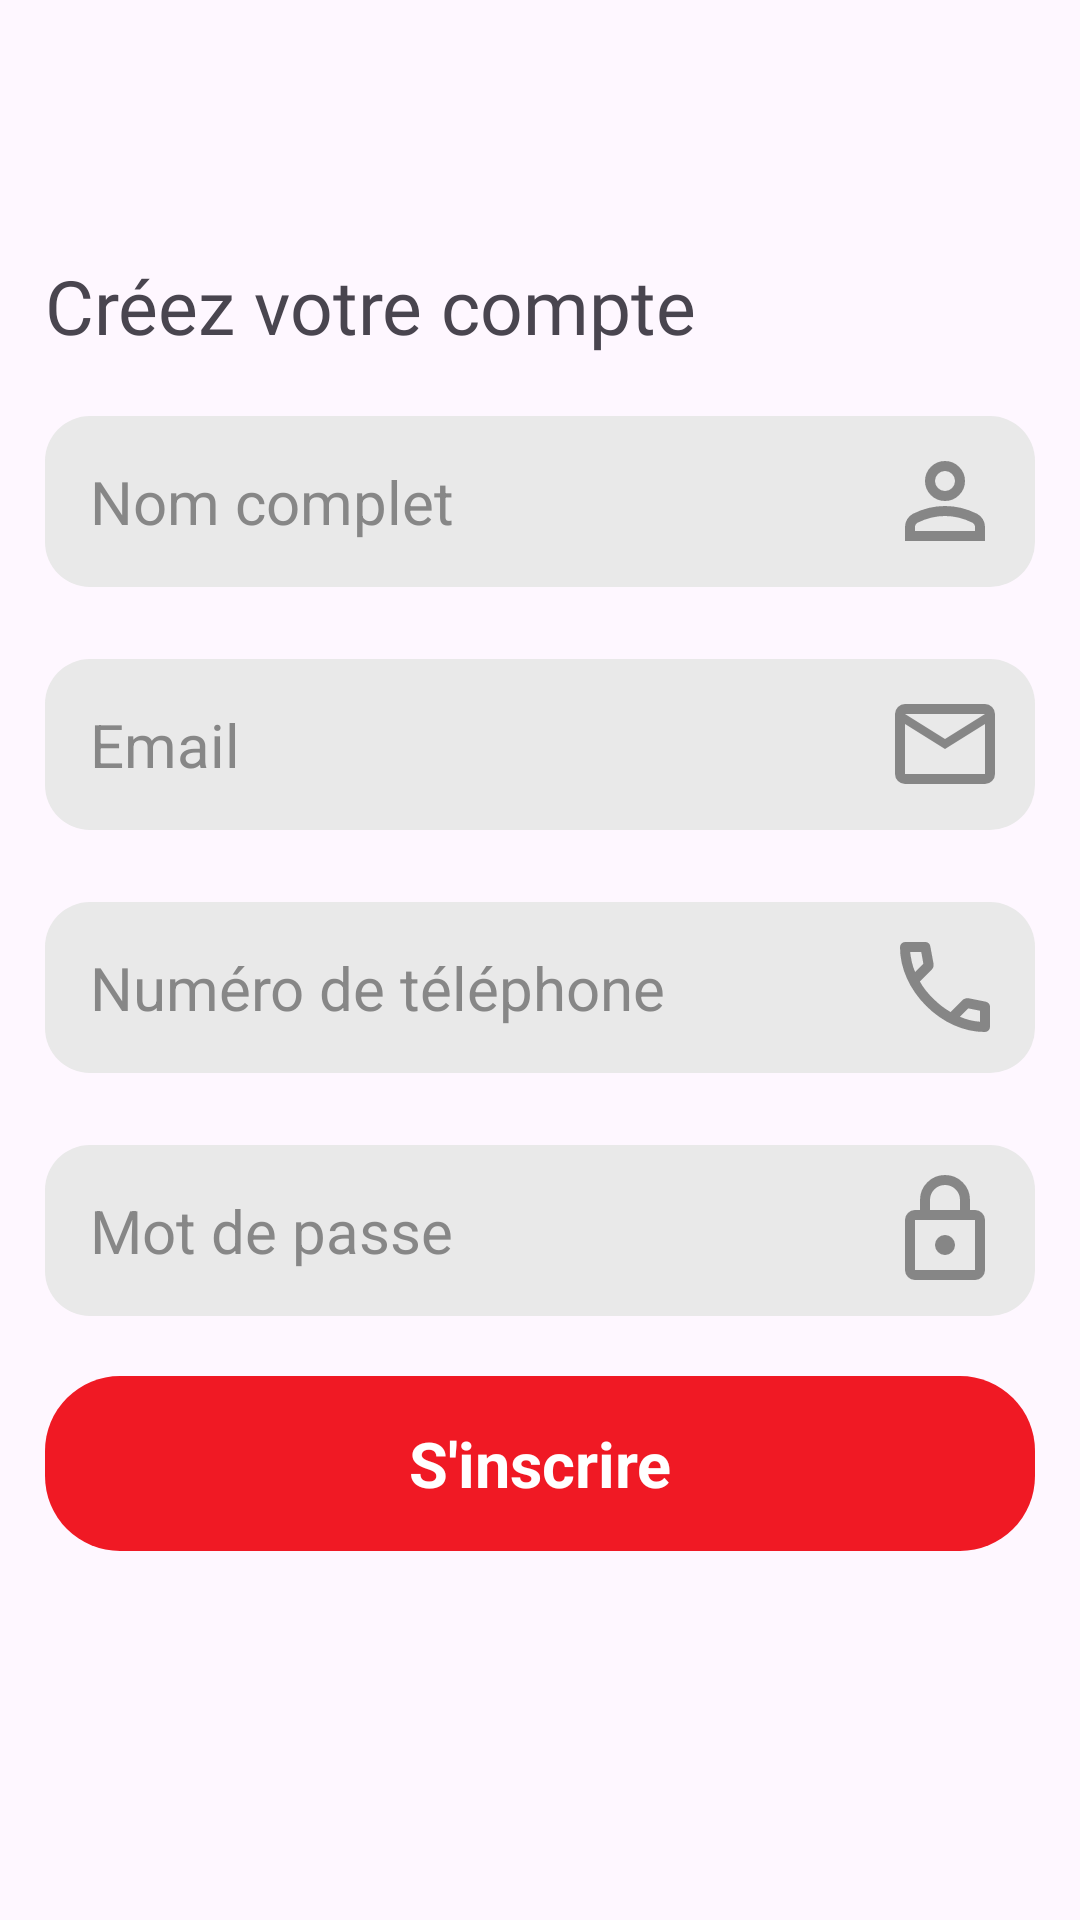

Screen size 1080*1920. Icon name, then its center in pixels as (x=x, y=y):
lock: (x=945, y=1227)
person: (x=945, y=501)
